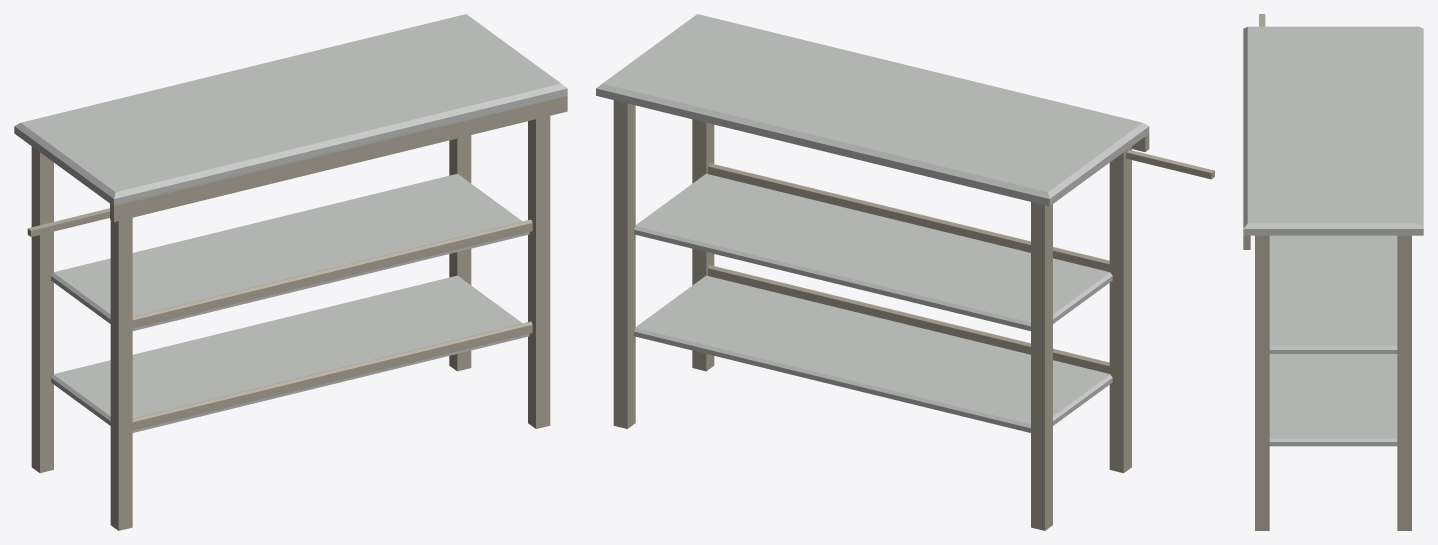
Rendered from SM_Cart_KapeRack_01.fbx.
The picture shows the model from 3 angles, left to right: view 1: azimuth 30°, elevation 25°; view 2: azimuth 150°, elevation 25°; view 3: azimuth 270°, elevation 25°; orthographic projection. The views are drawn at different scales.
Parts seen in each view (by area): view 1: SM_Cart_KapeRack_01; view 2: SM_Cart_KapeRack_01; view 3: SM_Cart_KapeRack_01.
Boxes of the visible parts, <box> form: SM_Cart_KapeRack_01: <box>14,14,567,530</box>; SM_Cart_KapeRack_01: <box>596,14,1214,530</box>; SM_Cart_KapeRack_01: <box>1243,14,1423,530</box>.
Bounding box in the file's own units: 1.05 × 0.654 × 0.344.
1 material, 1 textured.
